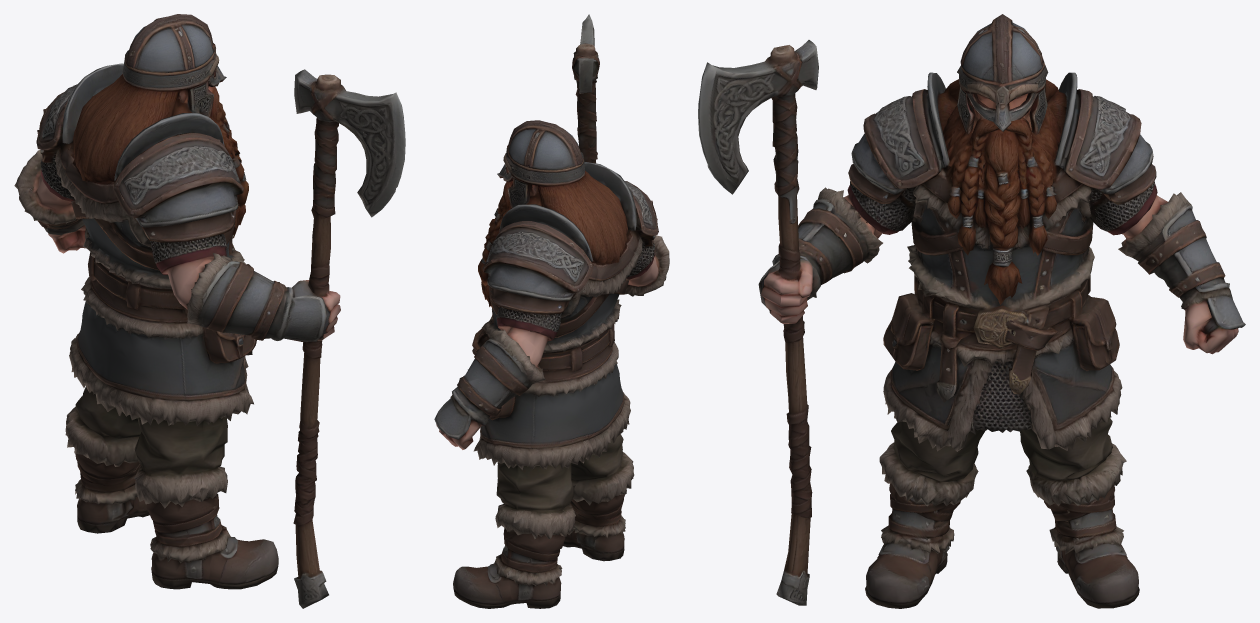
The model's file is h31front-4.glb.
The picture shows the model from 3 angles, left to right: view 1: azimuth 30°, elevation 25°; view 2: azimuth 150°, elevation 25°; view 3: azimuth 270°, elevation 25°; orthographic projection. The views are drawn at different scales.
Visible parts, largest first — view 1: tripo_node_e0780989-e20d-495e-ba97-22f1aac67d40; view 2: tripo_node_e0780989-e20d-495e-ba97-22f1aac67d40; view 3: tripo_node_e0780989-e20d-495e-ba97-22f1aac67d40.
Part boxes in pixels (bbox=[...]): tripo_node_e0780989-e20d-495e-ba97-22f1aac67d40: bbox=[14, 14, 405, 608]; tripo_node_e0780989-e20d-495e-ba97-22f1aac67d40: bbox=[434, 14, 669, 608]; tripo_node_e0780989-e20d-495e-ba97-22f1aac67d40: bbox=[698, 14, 1245, 608].
Size of the model in its own units: 0.3575 by 1 by 0.8744.
1 material, 1 textured.
